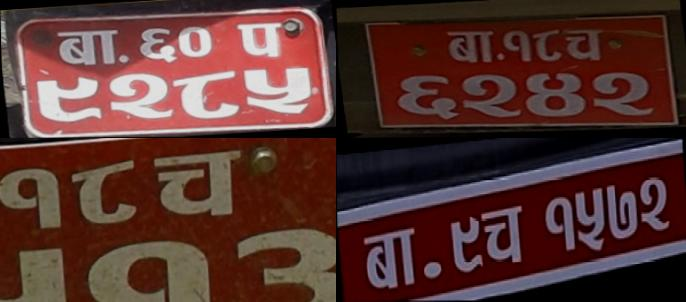0: (52, 26, 120, 70), (444, 28, 495, 66)
1: (75, 231, 218, 302), (0, 158, 67, 238), (587, 70, 653, 119), (456, 73, 523, 121), (106, 71, 171, 120), (541, 192, 579, 255)
2: (637, 174, 670, 234)
3: (219, 218, 336, 302), (499, 28, 532, 62)
4: (240, 64, 314, 117), (392, 73, 460, 123), (136, 26, 178, 63)
5: (0, 237, 81, 302), (520, 71, 586, 120), (574, 184, 607, 254)
7: (603, 177, 642, 243)
8: (65, 156, 142, 232), (234, 20, 284, 60)
9: (447, 213, 485, 274), (562, 27, 604, 62)
ba: (360, 225, 419, 293)
cha: (143, 141, 250, 227), (478, 202, 527, 270), (174, 22, 214, 61)
lu: (34, 74, 101, 123)
pa: (171, 70, 239, 120), (530, 30, 564, 63)
